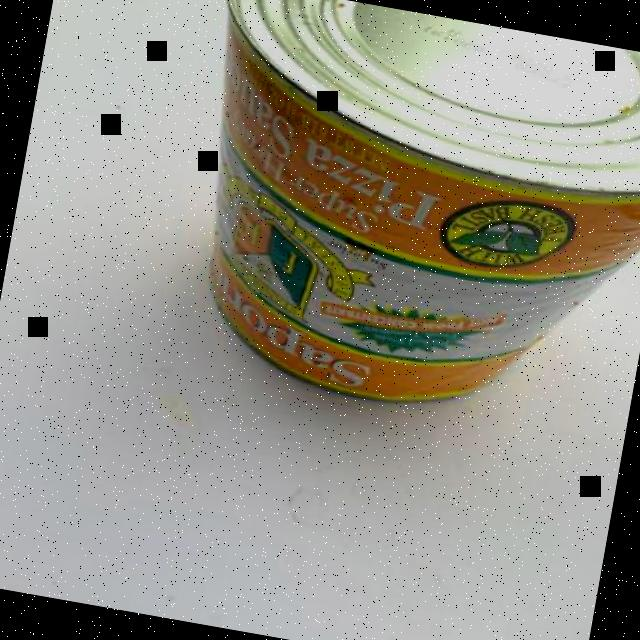can: (154, 0, 640, 446)
